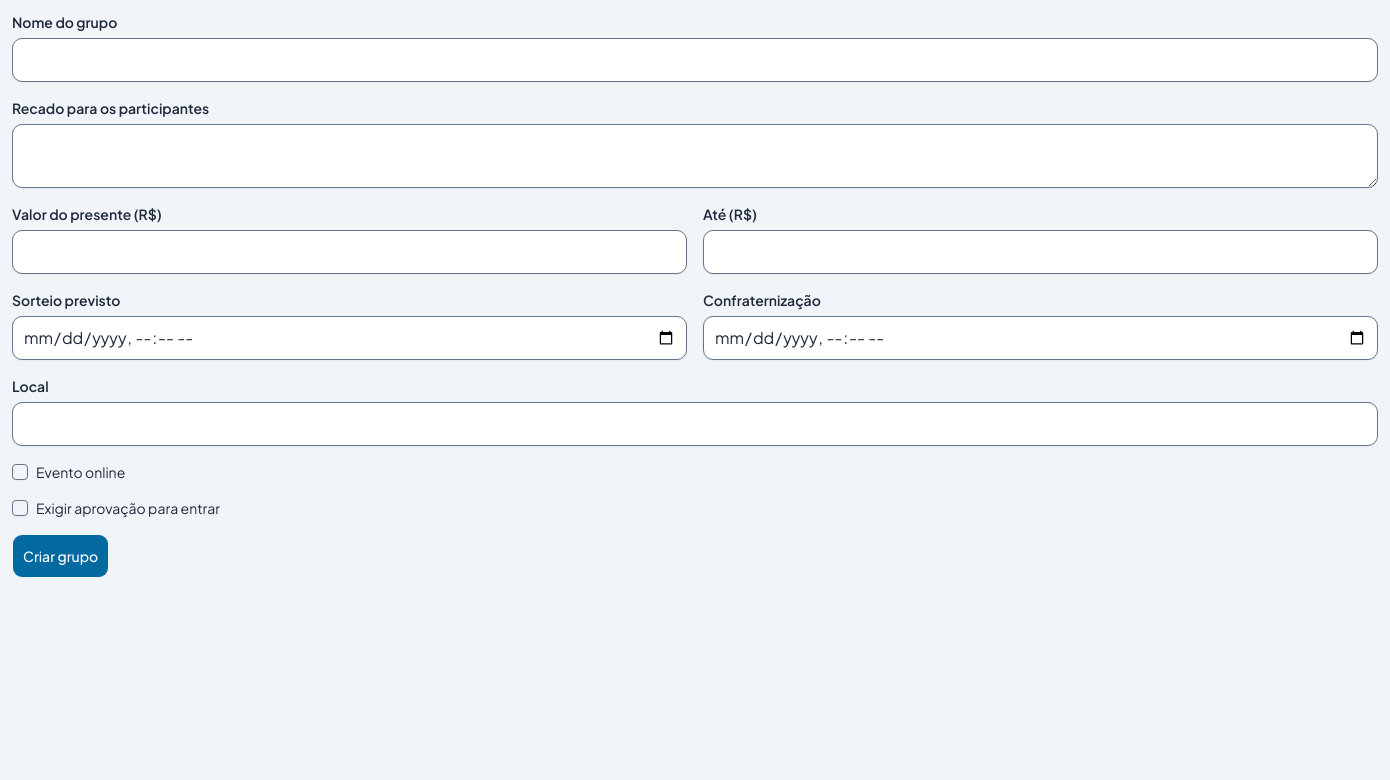
Test: GroupForm › mostra as mensagens dos campos de um 400 da API
The width and height of the screenshot is (1390, 780).
Type "Família" into the field labelled "Nome do grupo" at x=695, y=60, box [12,38,1378,82]
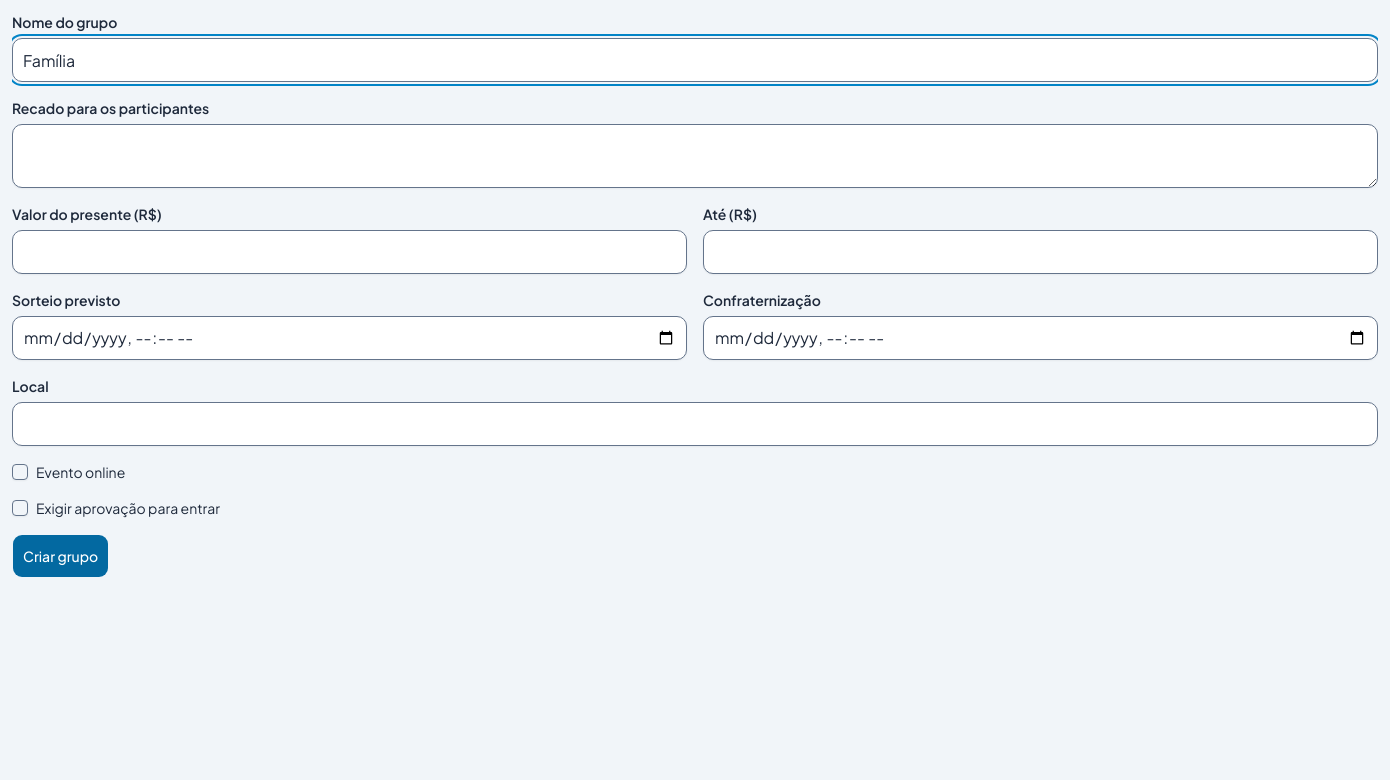
Type "50" into the field labelled "Valor do presente (R$)" at x=350, y=252, box [12,230,687,274]
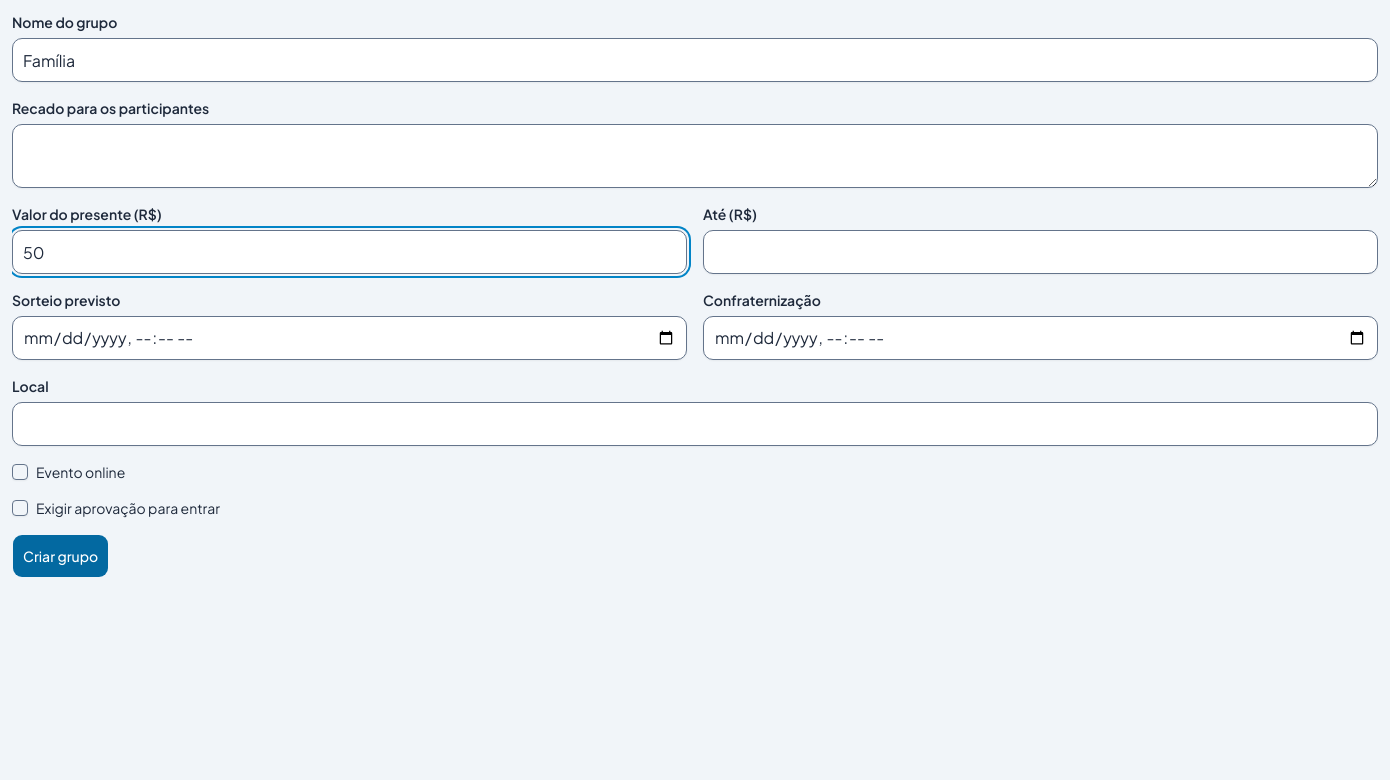
Click the button "Criar grupo" at x=61, y=556, box [12,534,109,578]
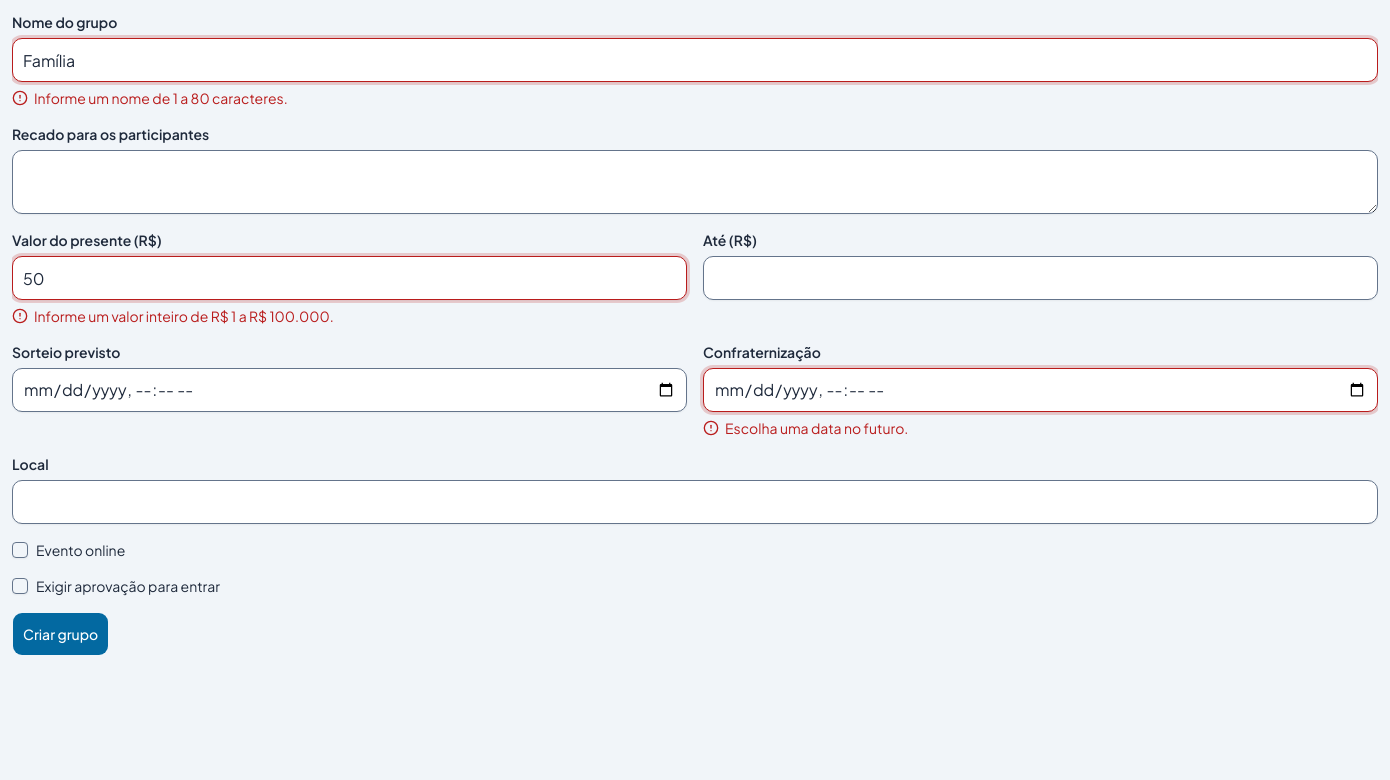
Now the text "Informe um nome de 1 a 80 caracteres." is shown, box [12,89,288,107]
